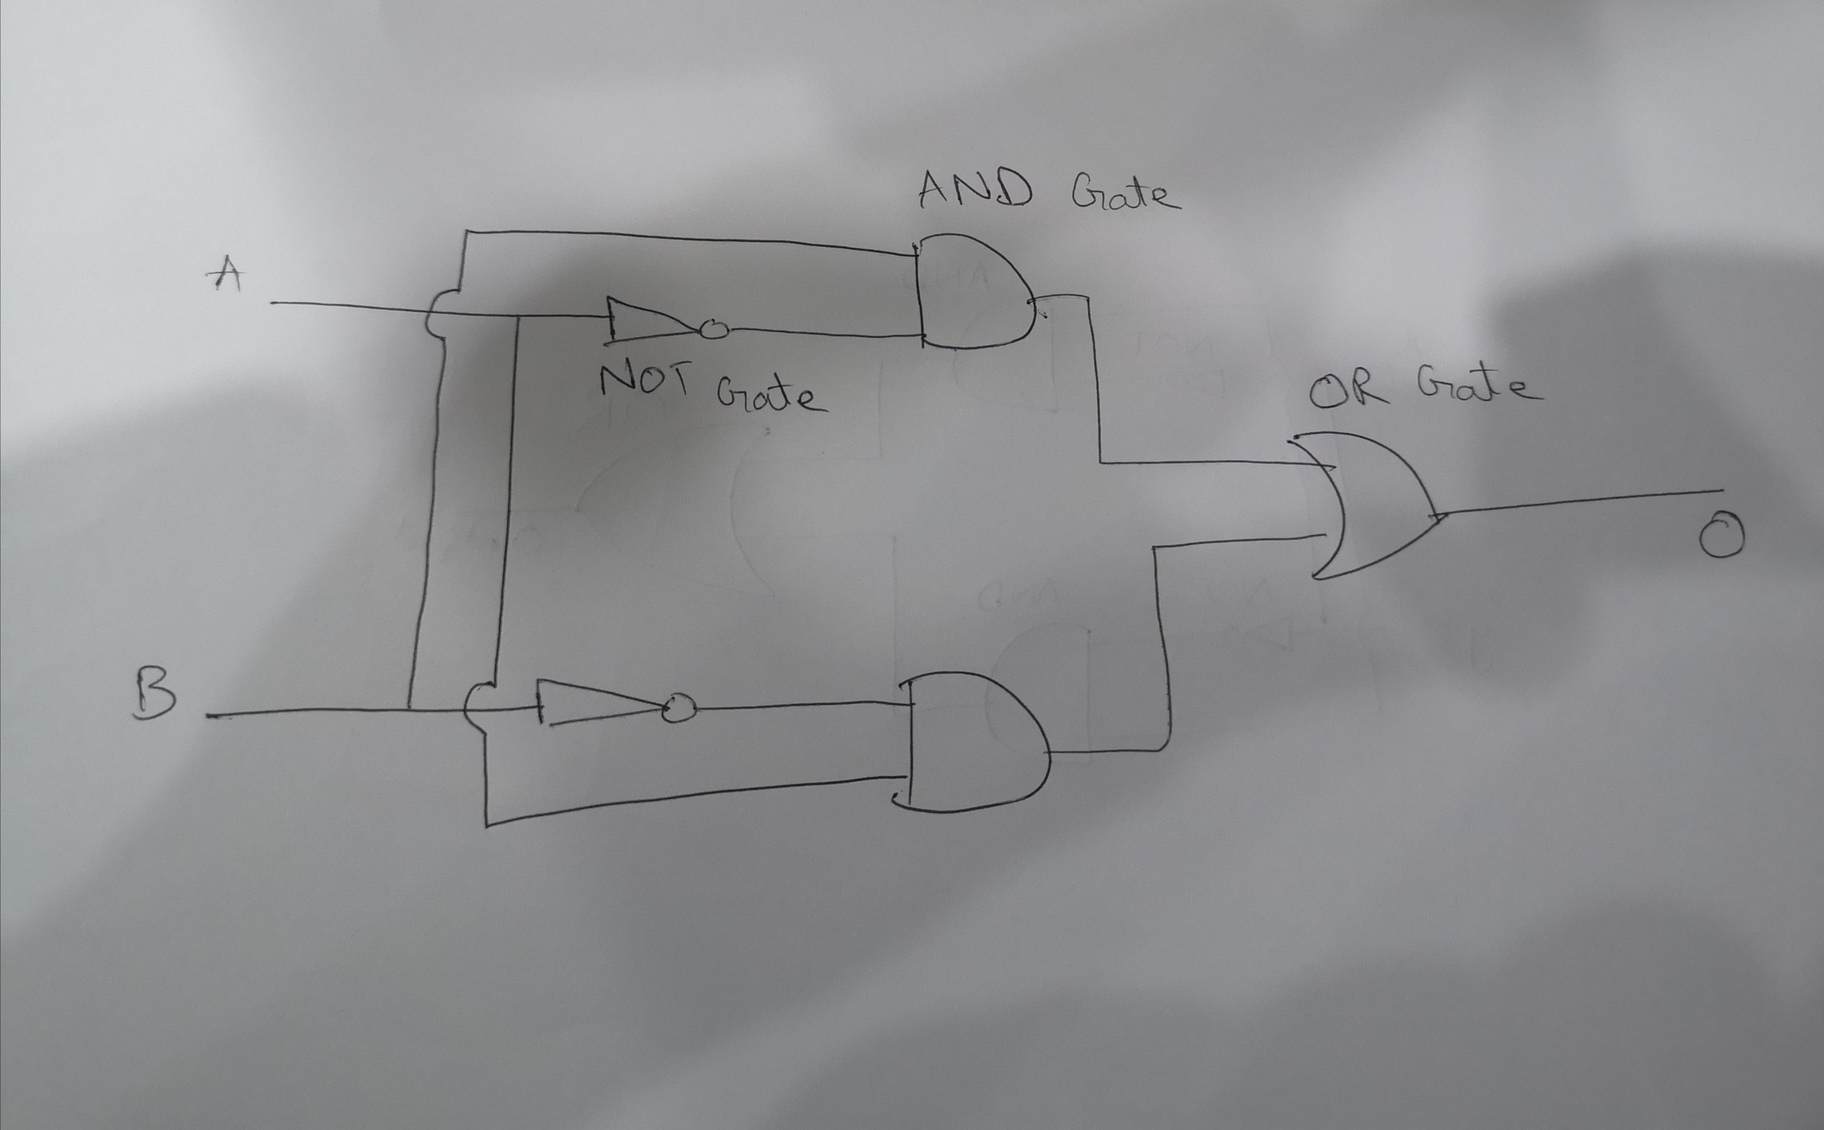and: (885, 665, 1064, 821), (908, 225, 1045, 355)
crossover: (460, 678, 507, 739), (423, 284, 461, 345)
junction: (1149, 732, 1179, 760), (395, 695, 420, 723), (456, 222, 479, 245), (1144, 537, 1167, 559), (507, 304, 528, 328), (1076, 285, 1100, 306), (1090, 454, 1111, 471), (479, 816, 495, 835)
not: (530, 673, 705, 734), (599, 291, 734, 351)
or: (1281, 424, 1461, 587)
terminal: (261, 291, 288, 313), (1704, 476, 1731, 498), (199, 705, 224, 727)
text: (909, 163, 1192, 219), (594, 352, 836, 417), (1304, 357, 1552, 414), (130, 658, 182, 723), (1694, 506, 1750, 564), (205, 249, 246, 298)
